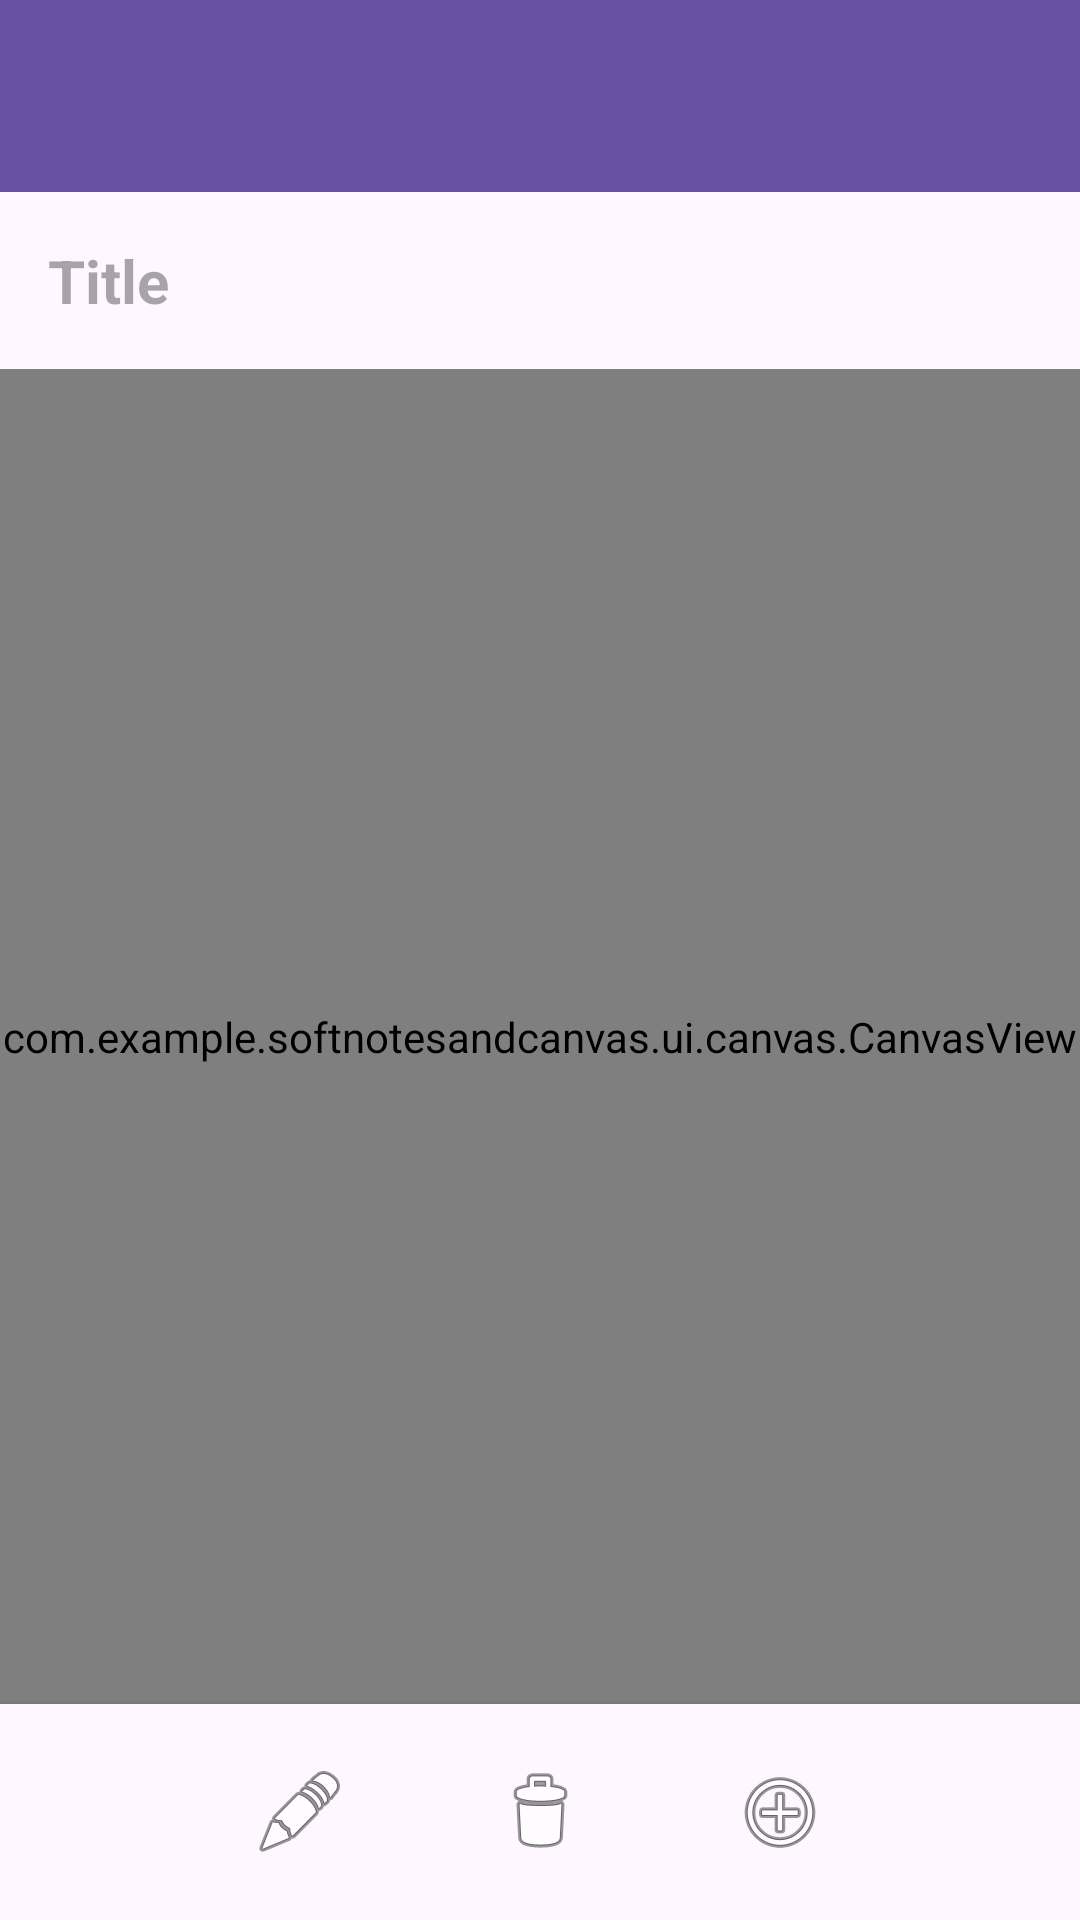

Icon click points for this 1080px×1920px phone screenshot, format point (x, y):
add: point (780, 1812)
